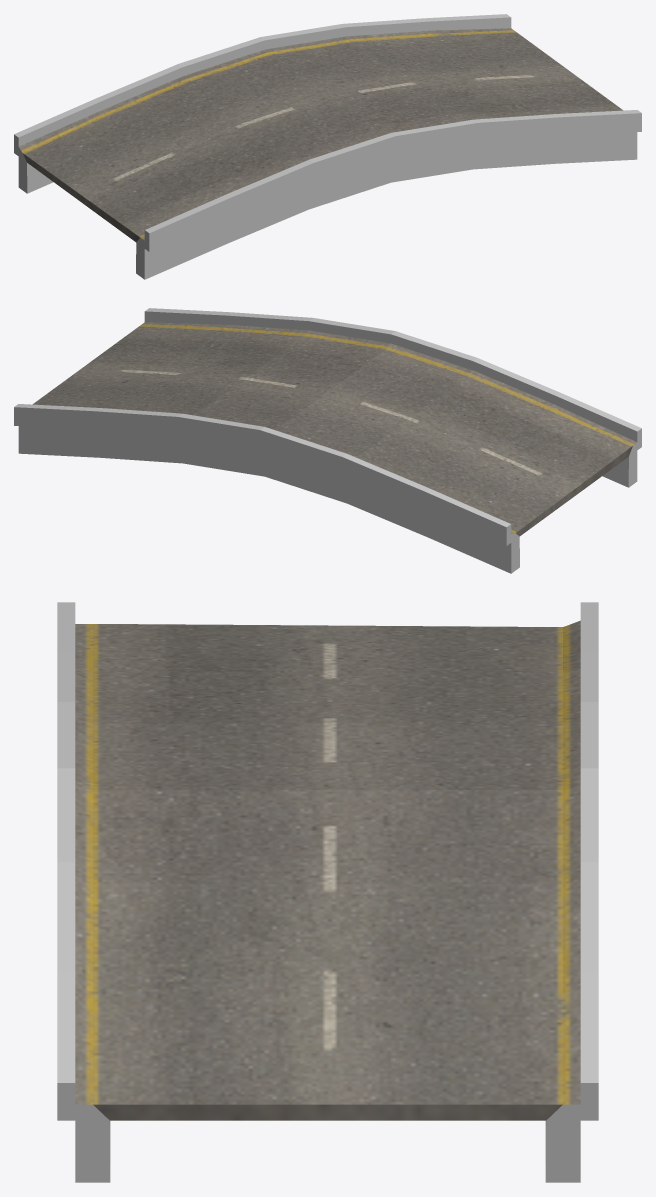
File: Urban_Road1SmallBridgeNoSides_Model.fbx
3 renders of one model, top to bottom at view 1: azimuth 30°, elevation 25°; view 2: azimuth 150°, elevation 25°; view 3: azimuth 270°, elevation 25°, orthographic. The views are drawn at different scales.
Visible parts, largest first — view 1: Urban_Road1SmallBridgeNoSides_Mesh; view 2: Urban_Road1SmallBridgeNoSides_Mesh; view 3: Urban_Road1SmallBridgeNoSides_Mesh.
Part boxes in pixels (x1,y1,x2,y2): Urban_Road1SmallBridgeNoSides_Mesh: (14, 14, 641, 279); Urban_Road1SmallBridgeNoSides_Mesh: (14, 308, 641, 573); Urban_Road1SmallBridgeNoSides_Mesh: (57, 602, 598, 1182).
Bounding box in the file's own units: 36 × 6.07 × 17.13.
